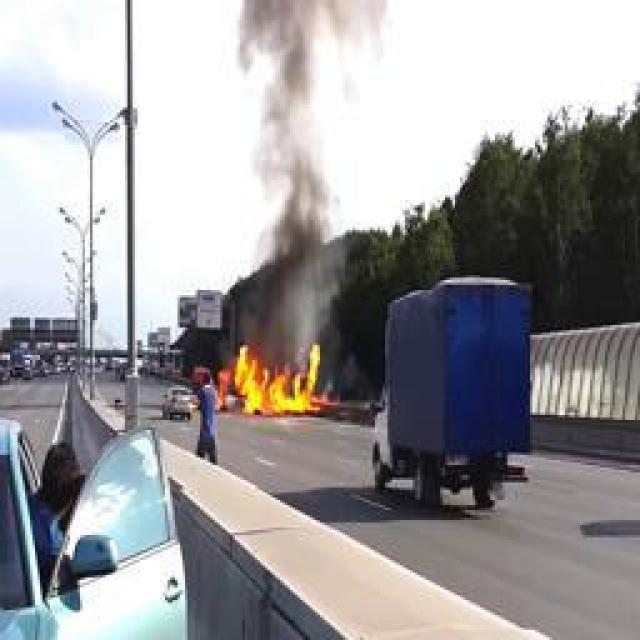Fire: (232, 345, 338, 413)
